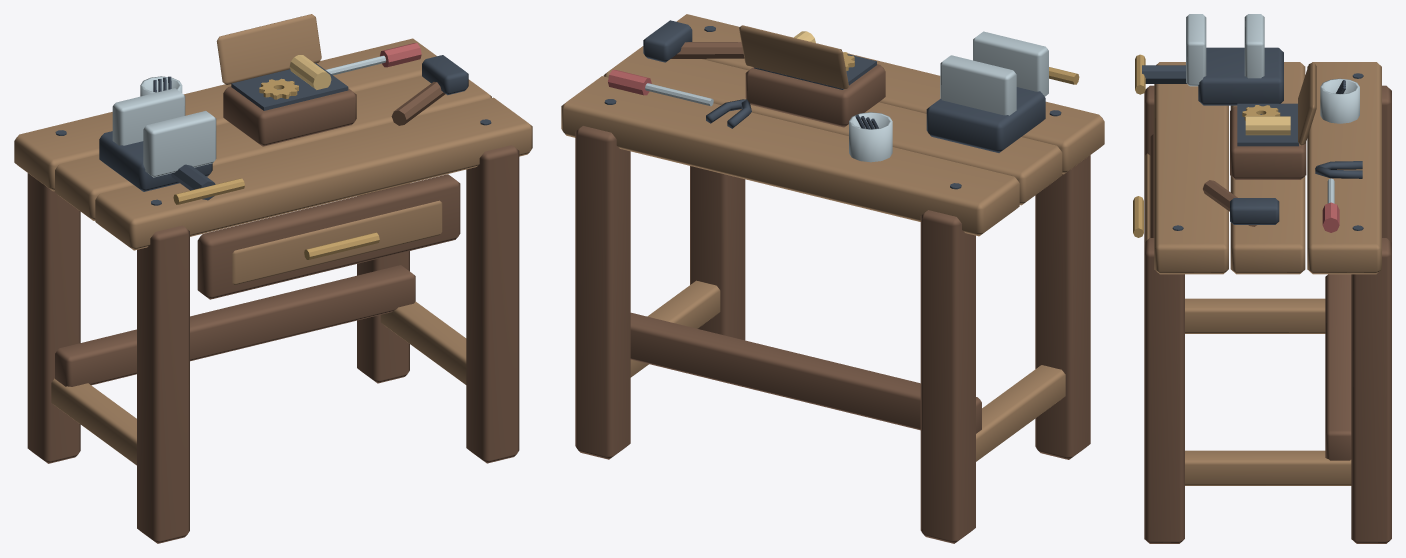
Rendered from workbench.glb.
3 renders of one model, left to right at view 1: azimuth 30°, elevation 25°; view 2: azimuth 150°, elevation 25°; view 3: azimuth 270°, elevation 25°, orthographic. The views are drawn at different scales.
Parts seen in each view (by area): view 1: Workbench top plank, Stout splayed leg.002, Stout splayed leg, Long lower stretcher, Stout splayed leg.001, Drawer, Workbench top plank.001, Workbench top plank.002, Drawer inset, Music box base, Propped music box lid, Vice jaw (+14 smaller); view 2: Workbench top plank.002, Stout splayed leg.001, Stout splayed leg.003, Stout splayed leg, Long lower stretcher, Workbench top plank.001, Stout splayed leg.002, Workbench top plank, Music box base, Vice base, Propped music box lid, Lower cross brace (+8 smaller); view 3: Workbench top plank, Workbench top plank.002, Stout splayed leg.002, Stout splayed leg.003, Workbench top plank.001, Lower cross brace.001, Lower cross brace, Long lower stretcher, Vice base, Music box base, Screw tin, Music box open interior (+17 smaller).
Boxes of the visible parts, x1=… form: Workbench top plank: x1=95, y1=97, x2=532, y2=250; Stout splayed leg.002: x1=466, y1=145, x2=519, y2=463; Stout splayed leg: x1=137, y1=225, x2=189, y2=543; Long lower stretcher: x1=55, y1=265, x2=415, y2=386; Stout splayed leg.001: x1=27, y1=173, x2=80, y2=463; Drawer: x1=197, y1=174, x2=460, y2=299; Workbench top plank.001: x1=55, y1=75, x2=491, y2=220; Workbench top plank.002: x1=14, y1=38, x2=436, y2=191; Drawer inset: x1=232, y1=200, x2=442, y2=284; Music box base: x1=223, y1=86, x2=356, y2=146; Propped music box lid: x1=216, y1=14, x2=321, y2=84; Vice jaw: x1=143, y1=111, x2=216, y2=177; Workbench top plank.002: x1=561, y1=76, x2=1019, y2=236; Stout splayed leg.001: x1=920, y1=210, x2=975, y2=543; Stout splayed leg.003: x1=575, y1=126, x2=630, y2=459; Stout splayed leg: x1=1035, y1=155, x2=1090, y2=459; Long lower stretcher: x1=630, y1=312, x2=981, y2=433; Workbench top plank.001: x1=603, y1=46, x2=1062, y2=205; Stout splayed leg.002: x1=690, y1=166, x2=745, y2=340; Workbench top plank: x1=676, y1=14, x2=1104, y2=174; Music box base: x1=745, y1=64, x2=885, y2=127; Vice base: x1=926, y1=87, x2=1045, y2=152; Propped music box lid: x1=739, y1=25, x2=848, y2=89; Lower cross brace: x1=976, y1=365, x2=1065, y2=461; Workbench top plank: x1=1154, y1=62, x2=1228, y2=274; Workbench top plank.002: x1=1307, y1=62, x2=1381, y2=274; Stout splayed leg.002: x1=1144, y1=238, x2=1184, y2=543; Stout splayed leg.003: x1=1351, y1=238, x2=1391, y2=543; Workbench top plank.001: x1=1230, y1=62, x2=1305, y2=274; Lower cross brace.001: x1=1185, y1=450, x2=1351, y2=485; Lower cross brace: x1=1185, y1=298, x2=1325, y2=333; Long lower stretcher: x1=1325, y1=274, x2=1351, y2=460; Vice base: x1=1198, y1=47, x2=1283, y2=105; Music box base: x1=1230, y1=106, x2=1306, y2=179; Screw tin: x1=1320, y1=78, x2=1359, y2=123; Music box open interior: x1=1237, y1=103, x2=1298, y2=146.
Size of the model in its own units: 0.98 by 0.9467 by 0.575.
